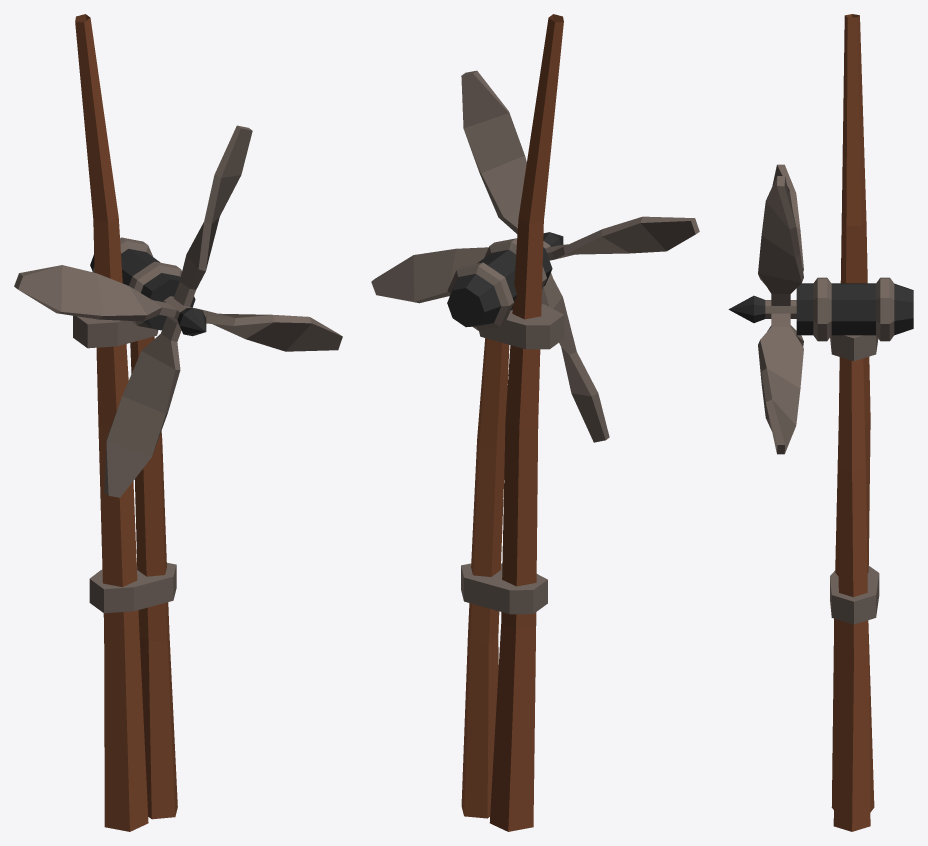
Rendered from LP_PostApoc_Windmill.fbx.
3 renders of one model, left to right at view 1: azimuth 30°, elevation 25°; view 2: azimuth 150°, elevation 25°; view 3: azimuth 270°, elevation 25°, orthographic. The views are drawn at different scales.
Parts seen in each view (by area): view 1: Windmill; view 2: Windmill; view 3: Windmill.
Boxes of the visible parts, x1,y1,x2,y2 form: Windmill: [14, 14, 342, 831]; Windmill: [371, 14, 699, 831]; Windmill: [728, 14, 913, 831].
Size of the model in its own units: 214 by 512 by 111.
